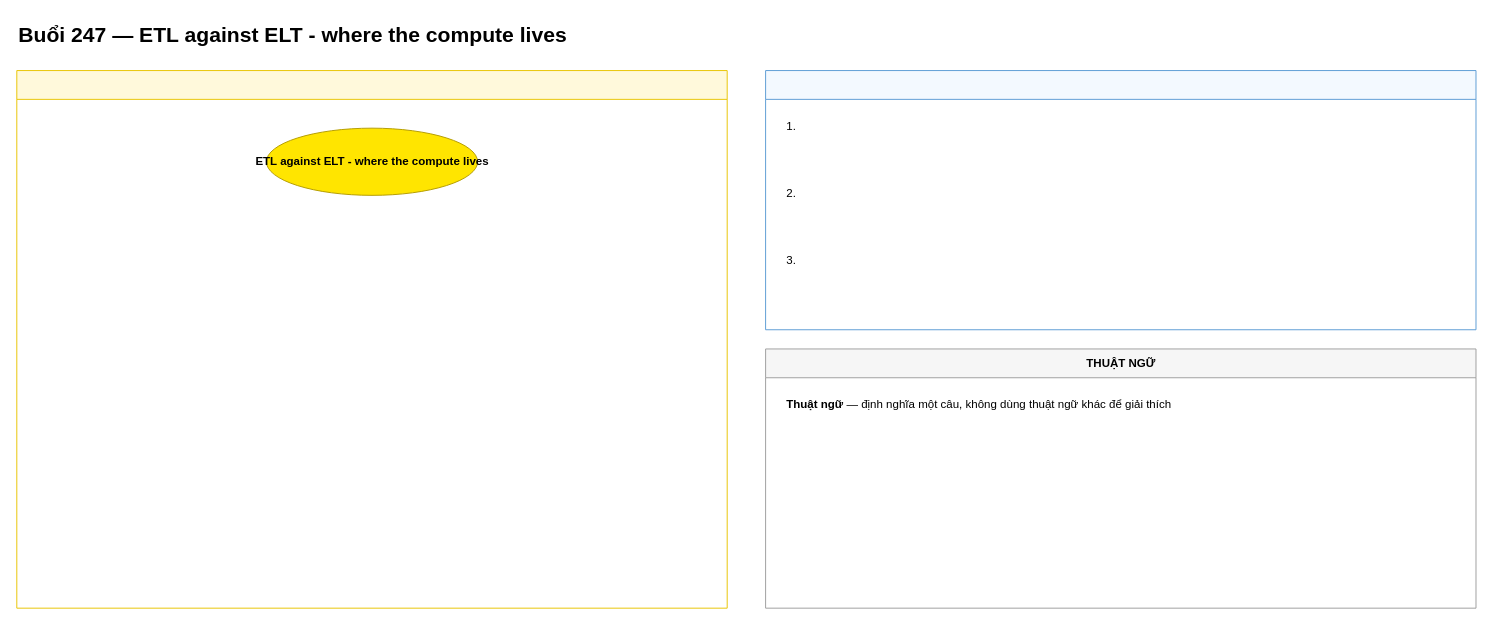
Image size: 1493x625. Some labels were removed from this diagram. The shapes that lost their labels are listed below. From the top down, each one's box as (x1, y1, x2, y2) in pixels, then its label:
(765, 70, 1476, 330): KEY TAKEAWAY — ba điều phải nhớ
(16, 70, 727, 608): MINDMAP
